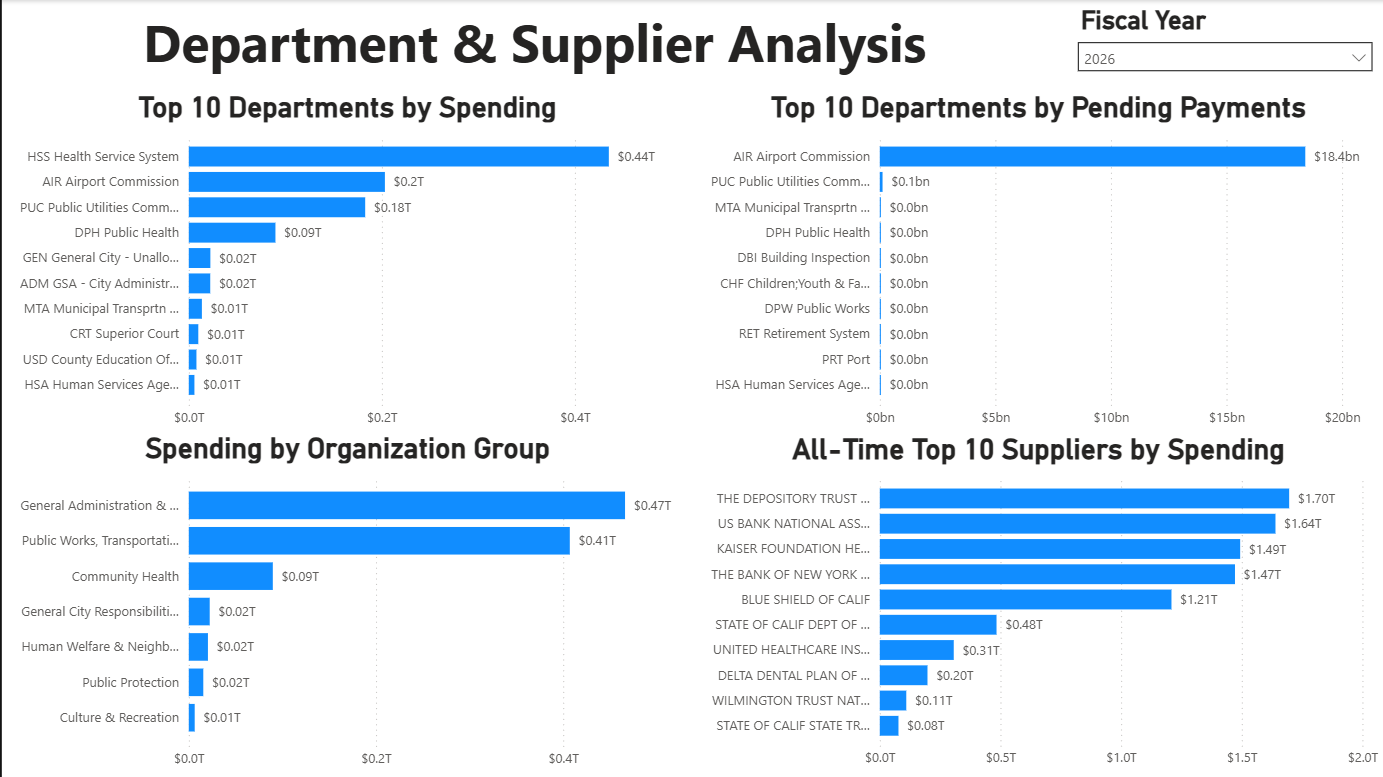

The page's visual inventory and layout, read from the dashboard file:
{"tool":"powerbi","page":{"name":"Department & Supplier","canvas":[1280,720],"ordinal":1},"visuals":[{"type":"textbox","box":[0,0,986.7,77.8],"z":0},{"type":"clusteredBarChart","title":"Top 10 Departments by Spending","fields":{"Category":["batch_spending_by_department.department"],"Y":["Sum(batch_spending_by_department.total_vouchers_paid)"]},"box":[0,83.3,640,321.1],"z":1000},{"type":"clusteredBarChart","title":"Spending by Organization Group","fields":{"Category":["batch_spending_by_department.organization_group"],"Y":["Sum(batch_spending_by_department.total_vouchers_paid)"]},"box":[0,398.9,640,321.1],"z":2000},{"type":"clusteredBarChart","title":"Top 10 Departments by Pending Payments","fields":{"Category":["batch_spending_by_department.department"],"Y":["Sum(batch_spending_by_department.total_vouchers_pending)"]},"box":[640,83.3,640,321.1],"z":3000},{"type":"clusteredBarChart","title":"All-Time Top 10 Suppliers by Spending","fields":{"Category":["batch_top_suppliers.supplier_name"],"Y":["Sum(batch_top_suppliers.total_vouchers_paid)"]},"box":[640,400,640,320],"z":4000},{"type":"slicer","fields":{"Values":["dim_fiscal_year.fiscal_year"]},"box":[986.7,0,293.3,78.9],"z":5000}]}

Visuals, with their boxes in screenshot pixels (x1, y1, x2, y2), scaled from the page's 1280x720 canvas onto the 1383x777 screenshot:
textbox: Rect(0, 0, 1066, 84)
"Top 10 Departments by Spending" clusteredBarChart: Rect(0, 90, 692, 436)
"Spending by Organization Group" clusteredBarChart: Rect(0, 430, 692, 776)
"Top 10 Departments by Pending Payments" clusteredBarChart: Rect(692, 90, 1382, 436)
"All-Time Top 10 Suppliers by Spending" clusteredBarChart: Rect(692, 432, 1382, 776)
slicer - dim_fiscal_year.fiscal_year: Rect(1066, 0, 1382, 85)
